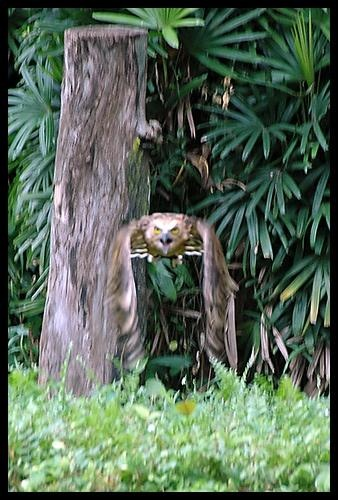bird: (111, 212, 233, 365)
